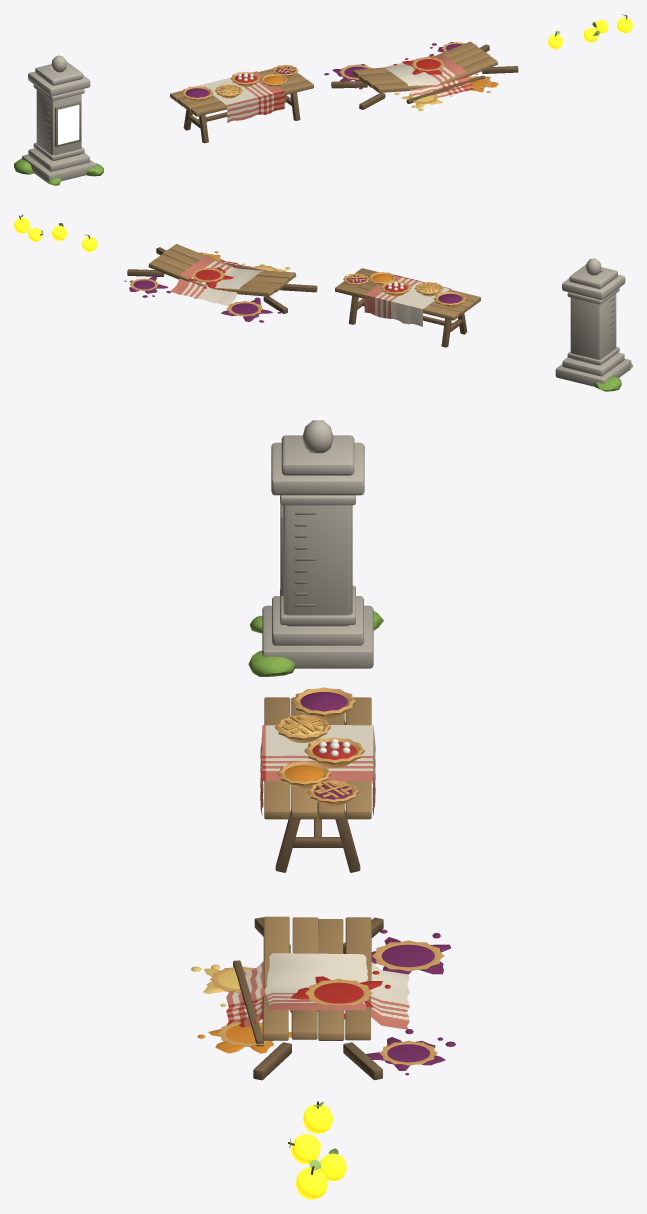
File: TS_Props.glb
3 renders of one model, top to bottom at view 1: azimuth 30°, elevation 25°; view 2: azimuth 150°, elevation 25°; view 3: azimuth 270°, elevation 25°, orthographic. The views are drawn at different scales.
Parts seen in each view (by area): view 1: TS_PieTable_Squished, TS_MeasuringPillar, TS_PieTable, TS_MeasuringPillar_Panel, TS_Pie_01, TS_Pie_03, TS_Pie_02, TS_Pie_04; view 2: TS_PieTable_Squished, TS_MeasuringPillar, TS_PieTable, TS_Pie_01, TS_Pie_03, TS_Pie_02, TS_Pie_04; view 3: TS_PieTable_Squished, TS_MeasuringPillar, TS_PieTable, TS_Pie_01, TS_Pie_03, TS_Pie_02, TS_Pie_04.
Part boxes in pixels (left/top/right/bottom): TS_PieTable_Squished: left=324, top=41, right=518, bottom=110; TS_MeasuringPillar: left=14, top=55, right=103, bottom=185; TS_PieTable: left=170, top=68, right=313, bottom=143; TS_MeasuringPillar_Panel: left=58, top=105, right=79, bottom=144; TS_Pie_01: left=181, top=86, right=213, bottom=102; TS_Pie_03: left=230, top=71, right=260, bottom=86; TS_Pie_02: left=215, top=84, right=242, bottom=98; TS_Pie_04: left=260, top=74, right=287, bottom=87; TS_PieTable_Squished: left=124, top=244, right=317, bottom=322; TS_MeasuringPillar: left=555, top=258, right=632, bottom=391; TS_PieTable: left=335, top=268, right=480, bottom=347; TS_Pie_01: left=433, top=291, right=466, bottom=307; TS_Pie_03: left=380, top=281, right=410, bottom=296; TS_Pie_02: left=414, top=282, right=443, bottom=296; TS_Pie_04: left=368, top=272, right=395, bottom=285; TS_PieTable_Squished: left=191, top=916, right=455, bottom=1080; TS_MeasuringPillar: left=248, top=420, right=383, bottom=676; TS_PieTable: left=260, top=697, right=375, bottom=872; TS_Pie_01: left=291, top=687, right=356, bottom=719; TS_Pie_03: left=304, top=737, right=364, bottom=767; TS_Pie_02: left=275, top=714, right=330, bottom=742; TS_Pie_04: left=277, top=761, right=331, bottom=788.
Size of the model in its own units: 46.38 by 8.38 by 8.79.
16 materials, 1 textured.
